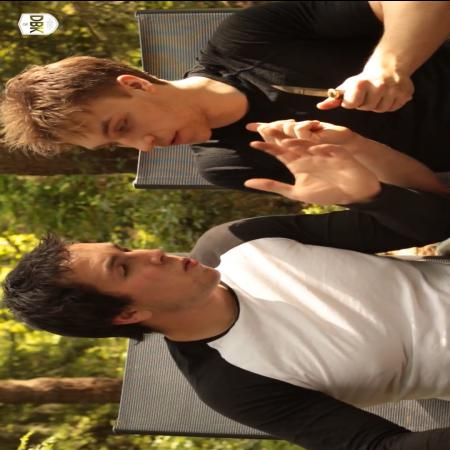long weapon: (261, 68, 399, 114)
